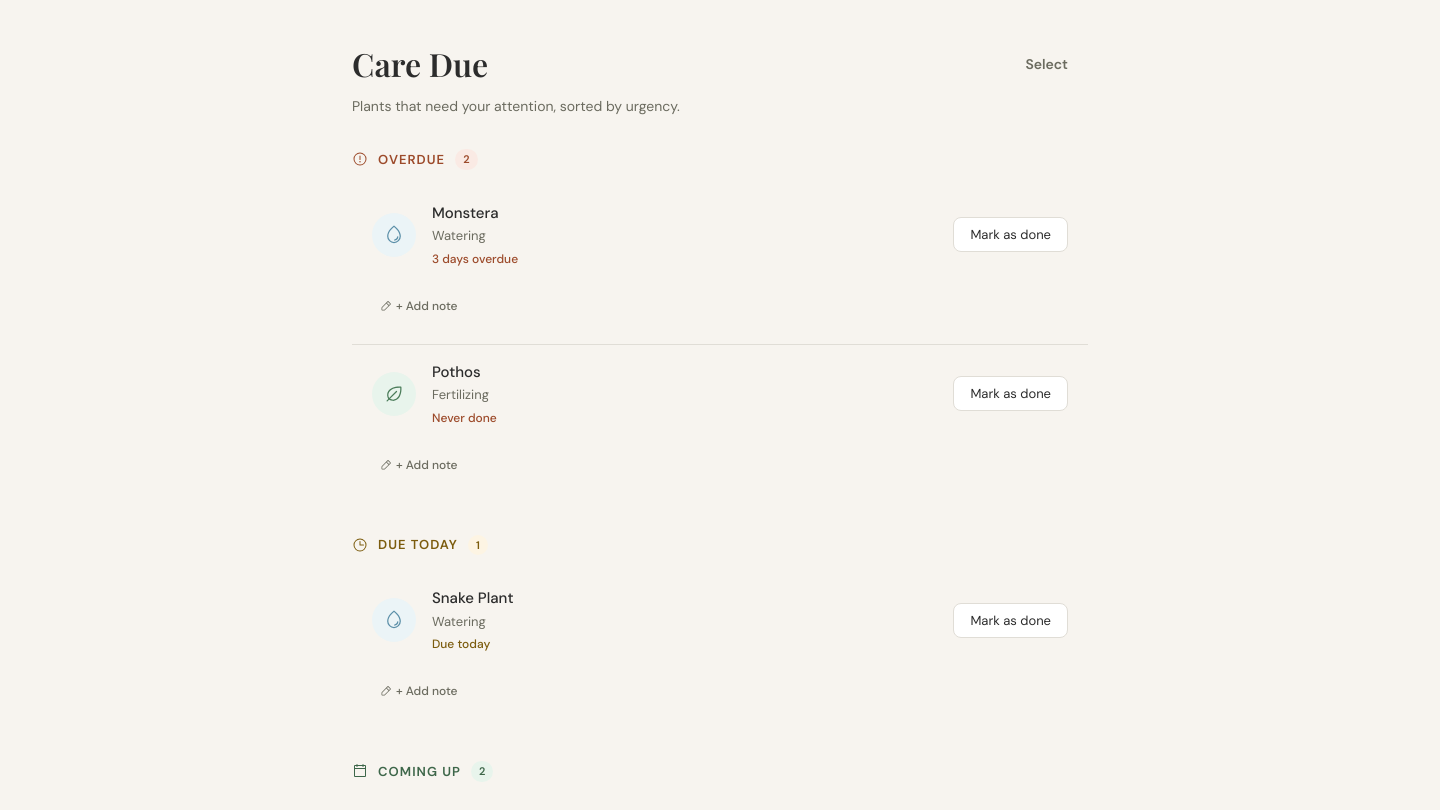
it: CareDuePage › Batch mark-done (T-110) › shows confirmation when clicking Mark done
Click the button "Select". click: (1047, 64)
box: [1005,47,1088,81]
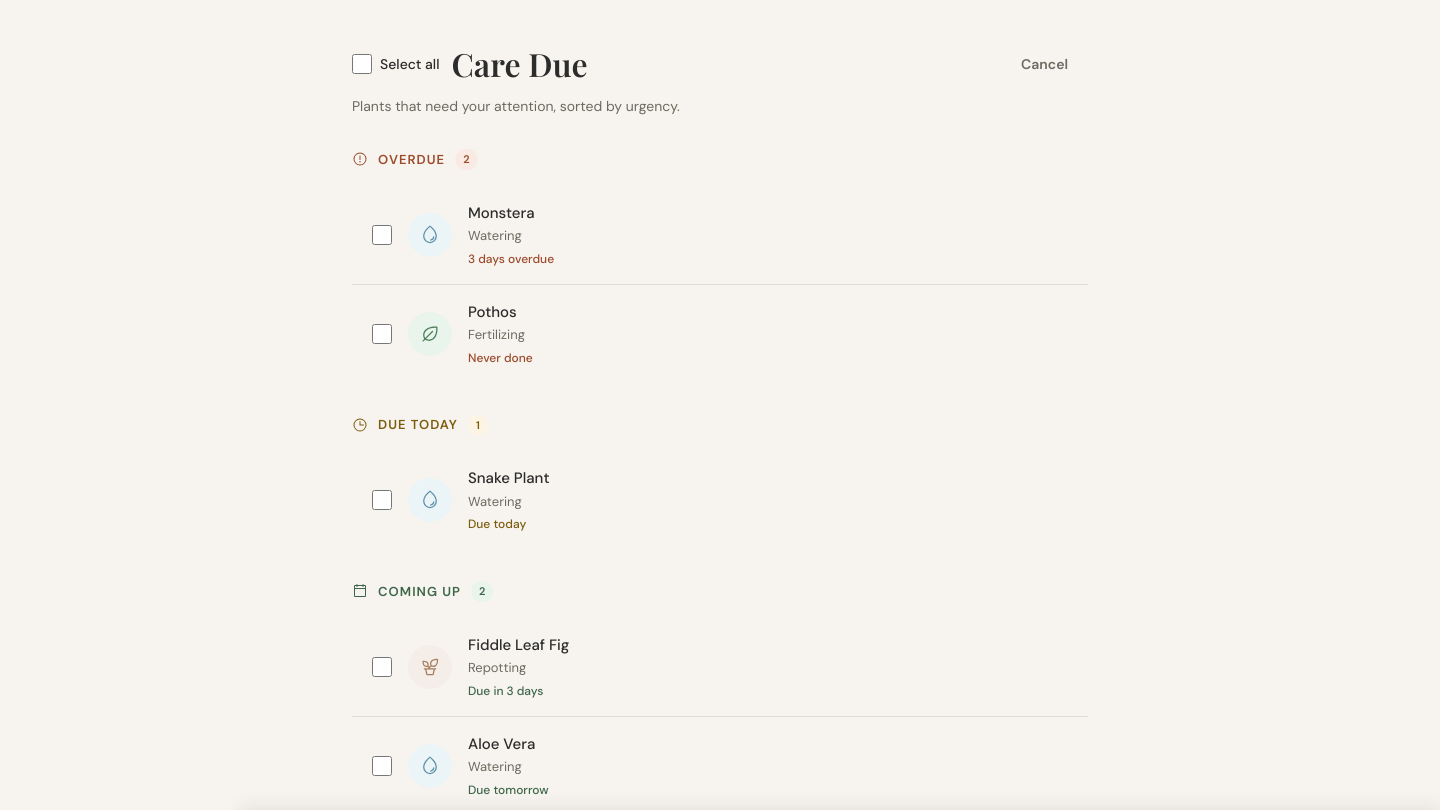
# Select 2 items
Click the checkbox named "Mark Monstera watering as done". click: (382, 234)
box: [372,224,392,244]
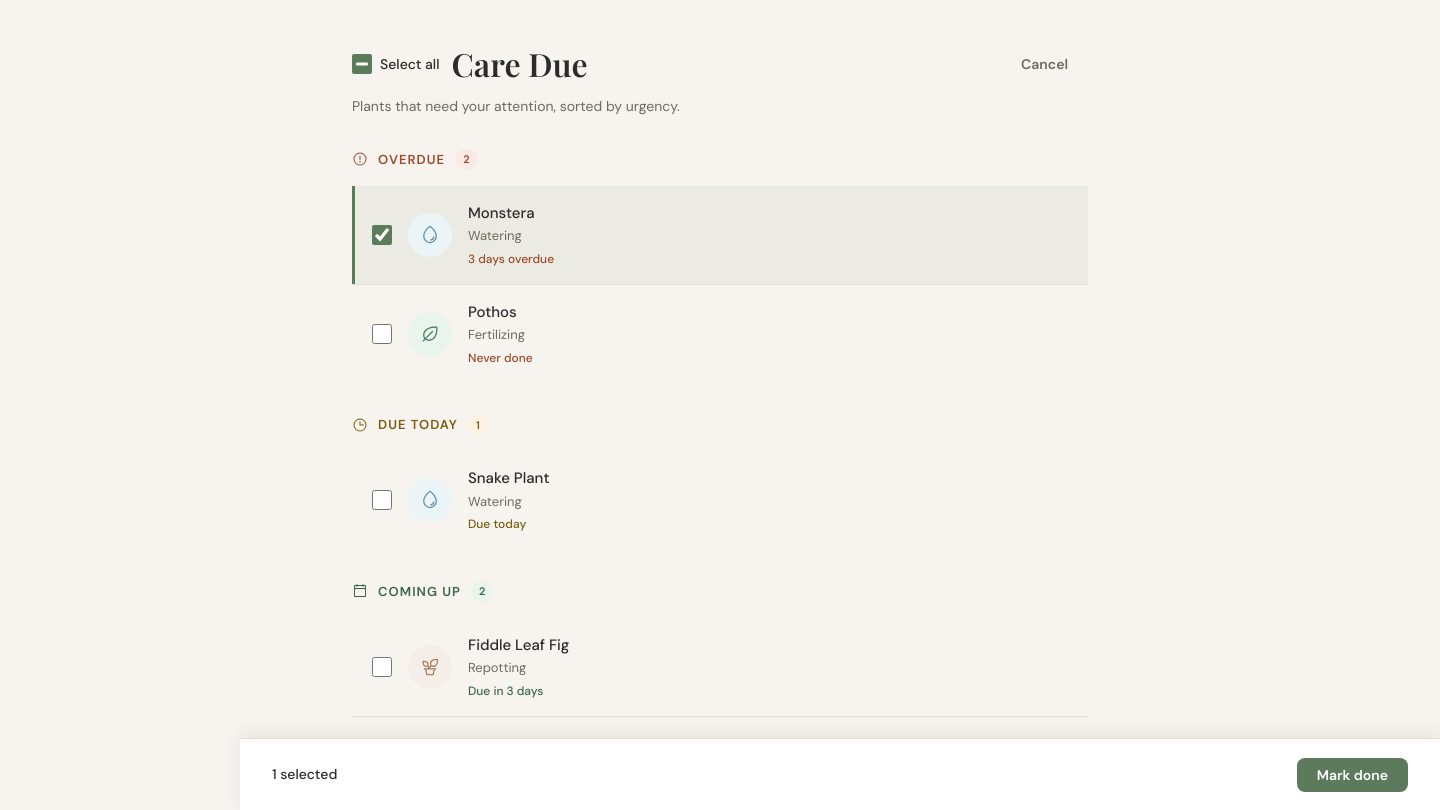
Click the checkbox named "Mark Pothos fertilizing as done". click: (382, 334)
box: [372,324,392,344]
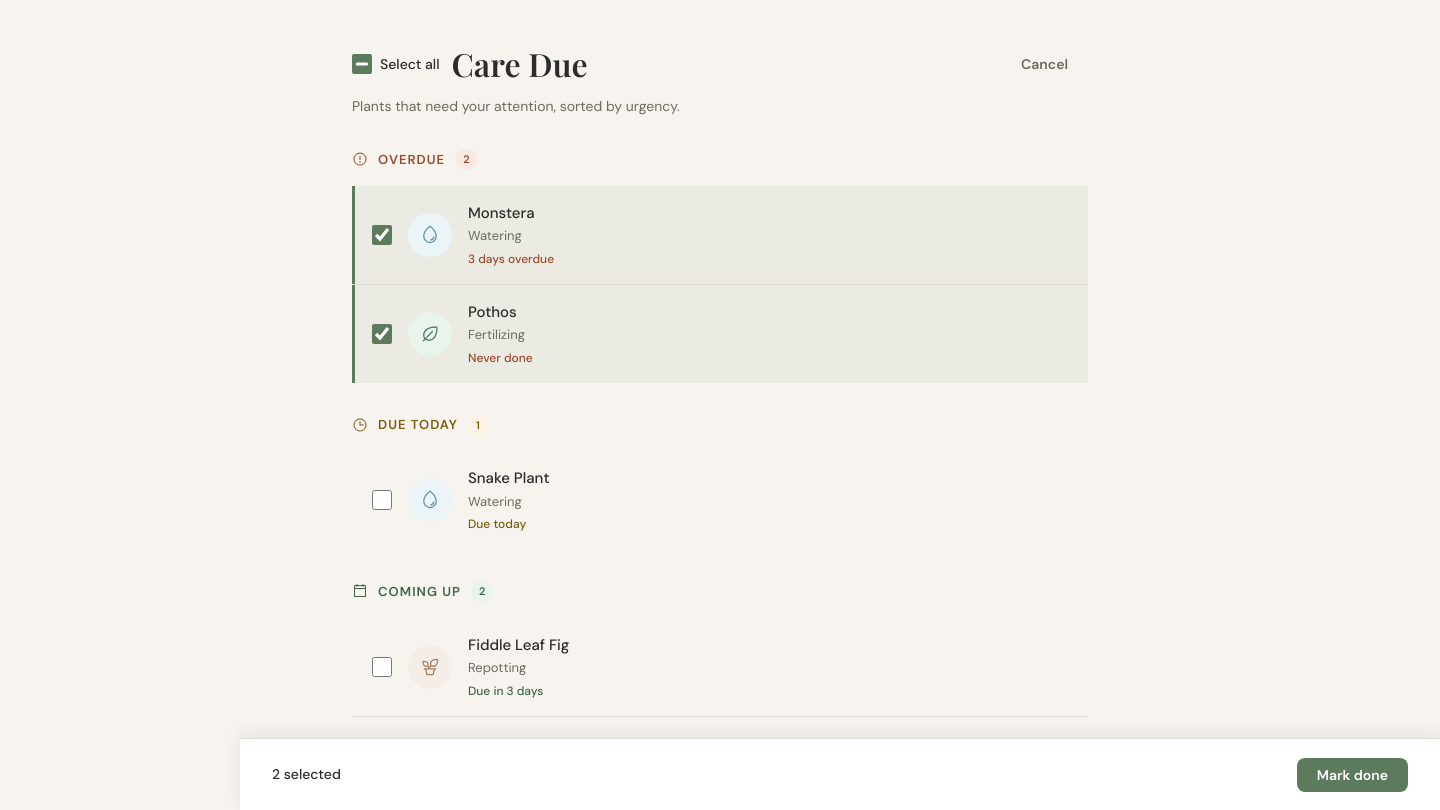
# Click Mark done
Click the button with aria-label "Mark 2 selected items as done". click: (1352, 774)
box: [1297,758,1408,792]
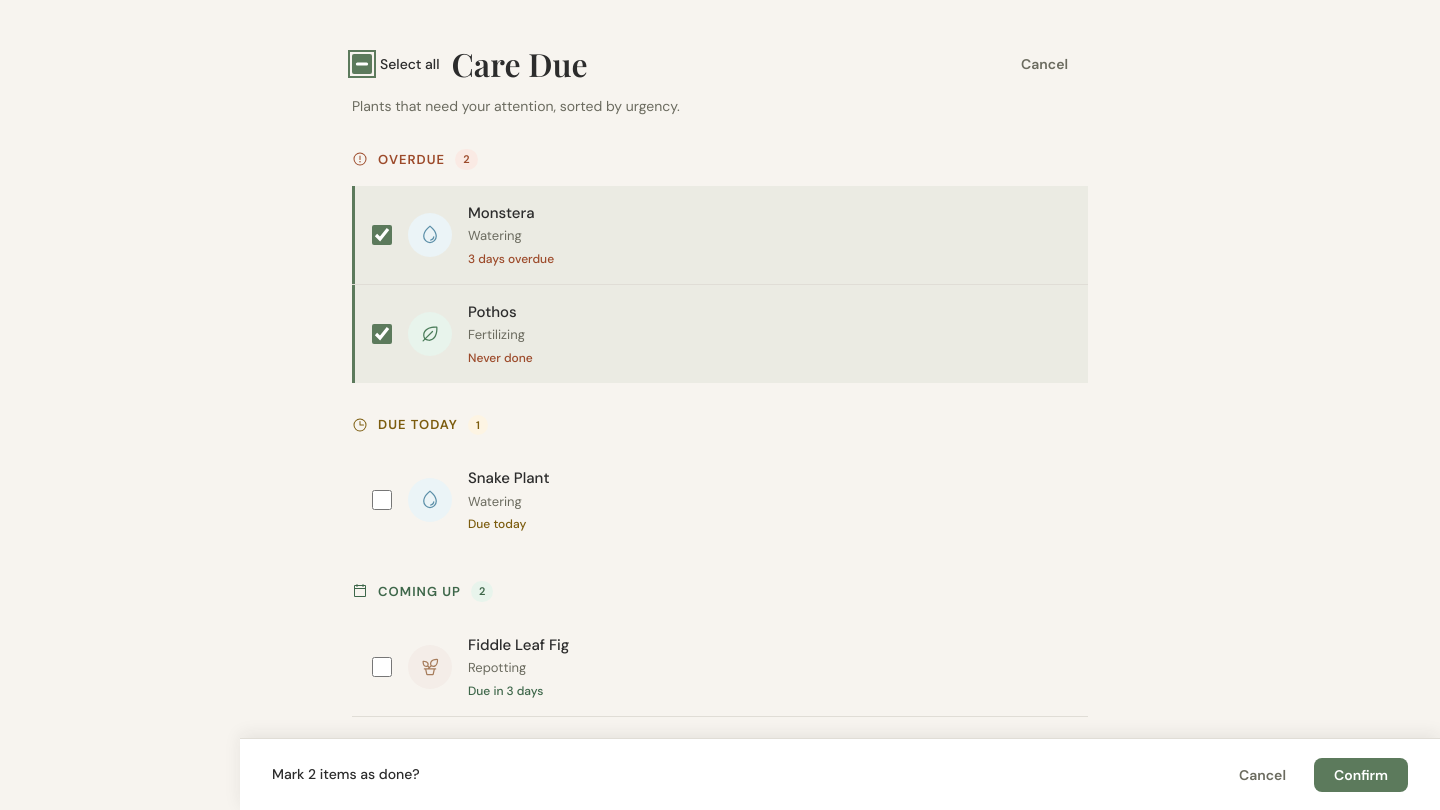
Now the text "Mark 2 items as done?" is shown, box [272,764,420,785]
Now the button "Confirm" is shown, box [1314,758,1408,792]
